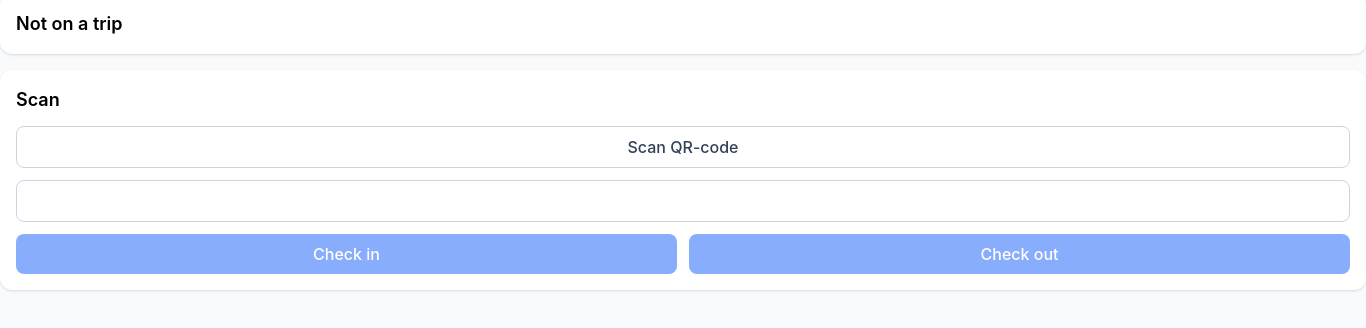
Test: shows fallback error when detail is not a string
Type "invalid-code" into the field at (683, 201), box [16,180,1350,222]
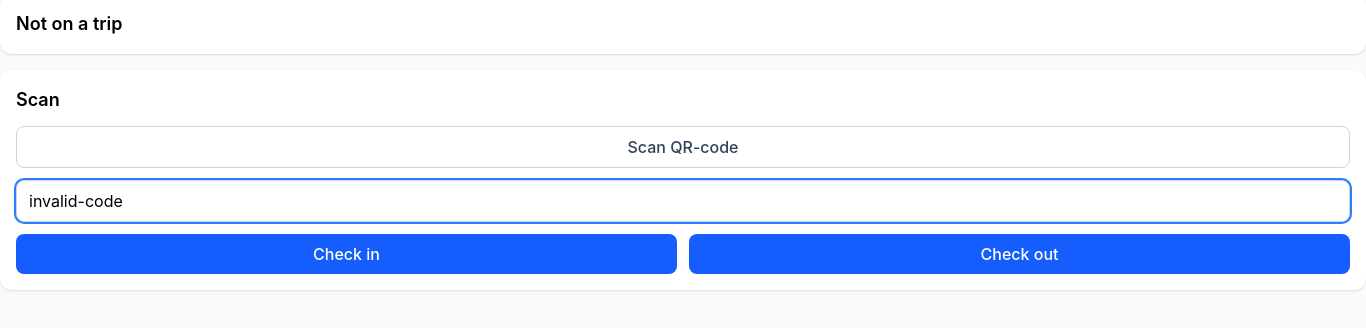
Click the button "Check in" at (346, 254), box [16,234,677,274]
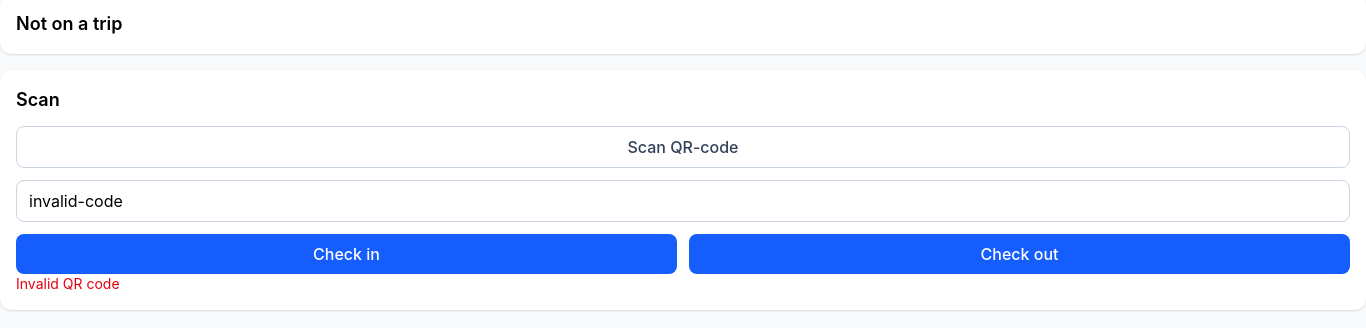
expect the text "Invalid QR code" is shown: met, box [16,275,120,292]
